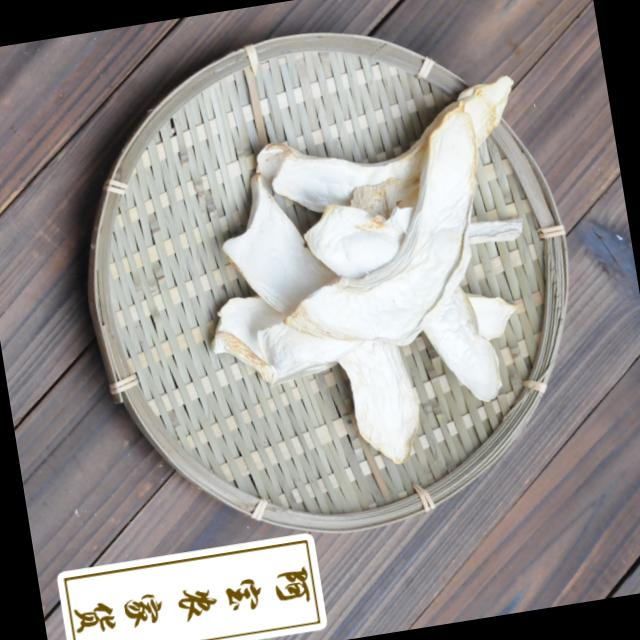Pleurotus eryngii: (181, 74, 570, 490)
